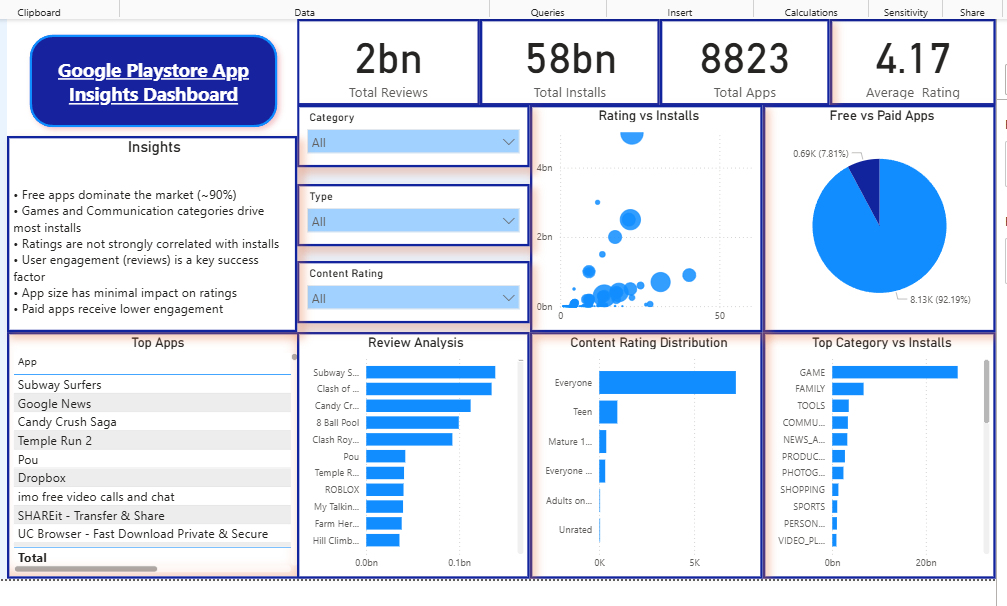

The page's visual inventory and layout, read from the dashboard file:
{"tool":"powerbi","page":{"name":"Page 1","canvas":[1280,720],"ordinal":0},"visuals":[{"type":"card","fields":{"Values":["Avg(Sheet2.Rating)"]},"box":[1066.7,0,213.3,110.5],"z":0},{"type":"card","fields":{"Values":["Sum(Sheet2.Reviews)"]},"box":[381.7,0,235.2,110.5],"z":1000},{"type":"card","fields":{"Values":["Sum(Sheet2.installs_clean)"]},"box":[616.9,0,231.3,110.5],"z":2000},{"type":"card","fields":{"Values":["CountNonNull(Sheet2.App)"]},"box":[848.2,0,218.5,110.5],"z":3000},{"type":"barChart","title":"Top Category vs Installs","fields":{"Category":["Sheet2.Category"],"Y":["Sum(Sheet2.installs_clean)"]},"box":[980.6,402.2,299.4,317.4],"z":4000},{"type":"pieChart","title":"Free vs Paid Apps","fields":{"Category":["Sheet2.Type"],"Y":["CountNonNull(Sheet2.App)"]},"box":[980.6,110.5,299.4,291.7],"z":5000},{"type":"barChart","title":"Content Rating Distribution","fields":{"Category":["Sheet2.Content Rating"],"Y":["CountNonNull(Sheet2.App)"]},"box":[681.1,402.2,299.4,317.4],"z":6000},{"type":"tableEx","title":"Top Apps","fields":{"Values":["Sheet2.App","Sum(Sheet2.installs_clean)","Sum(Sheet2.Rating)","Sum(Sheet2.Reviews)"]},"box":[9,402.2,381.7,317.4],"z":8000},{"type":"barChart","title":"Review Analysis","fields":{"Category":["Sheet2.App"],"Y":["Sum(Sheet2.Reviews)"]},"box":[381.7,402.2,299.4,317.4],"z":9000},{"type":"scatterChart","title":"Rating vs Installs","fields":{"X":["Sum(Sheet2.Rating)"],"Y":["Sum(Sheet2.Installs)"],"Size":["Sum(Sheet2.Reviews)"],"Category":["Sheet2.App"]},"box":[681.1,110.5,299.4,291.7],"z":10000},{"type":"slicer","fields":{"Values":["Sheet2.Category"]},"box":[381.7,110.5,299.4,79.7],"z":11000},{"type":"slicer","fields":{"Values":["Sheet2.Content Rating"]},"box":[381.7,311,299.4,79.7],"z":12000},{"type":"slicer","fields":{"Values":["Sheet2.Type"]},"box":[381.7,212,299.4,79.7],"z":13000},{"type":"textbox","box":[9,0,373,150],"z":14000},{"type":"shape","box":[27,9,340.6,141.4],"z":15000},{"type":"textbox","title":"Insights","box":[9,150.4,372.7,251.9],"z":15001}]}

Visuals, with their boxes in screenshot pixels (x1, y1, x2, y2):
card - Avg(Sheet2.Rating): <bbox>825, 16, 990, 101</bbox>
card - Sum(Sheet2.Reviews): <bbox>294, 16, 476, 101</bbox>
card - Sum(Sheet2.installs_clean): <bbox>476, 16, 655, 101</bbox>
card - CountNonNull(Sheet2.App): <bbox>655, 16, 825, 101</bbox>
"Top Category vs Installs" barChart: <bbox>758, 328, 990, 574</bbox>
"Free vs Paid Apps" pieChart: <bbox>758, 101, 990, 328</bbox>
"Content Rating Distribution" barChart: <bbox>526, 328, 758, 574</bbox>
"Top Apps" tableEx: <bbox>4, 328, 301, 574</bbox>
"Review Analysis" barChart: <bbox>294, 328, 526, 574</bbox>
"Rating vs Installs" scatterChart: <bbox>526, 101, 758, 328</bbox>
slicer - Sheet2.Category: <bbox>294, 101, 526, 163</bbox>
slicer - Sheet2.Content Rating: <bbox>294, 257, 526, 319</bbox>
slicer - Sheet2.Type: <bbox>294, 180, 526, 242</bbox>
textbox: <bbox>4, 16, 294, 132</bbox>
shape: <bbox>18, 23, 283, 132</bbox>
"Insights" textbox: <bbox>4, 132, 294, 328</bbox>
